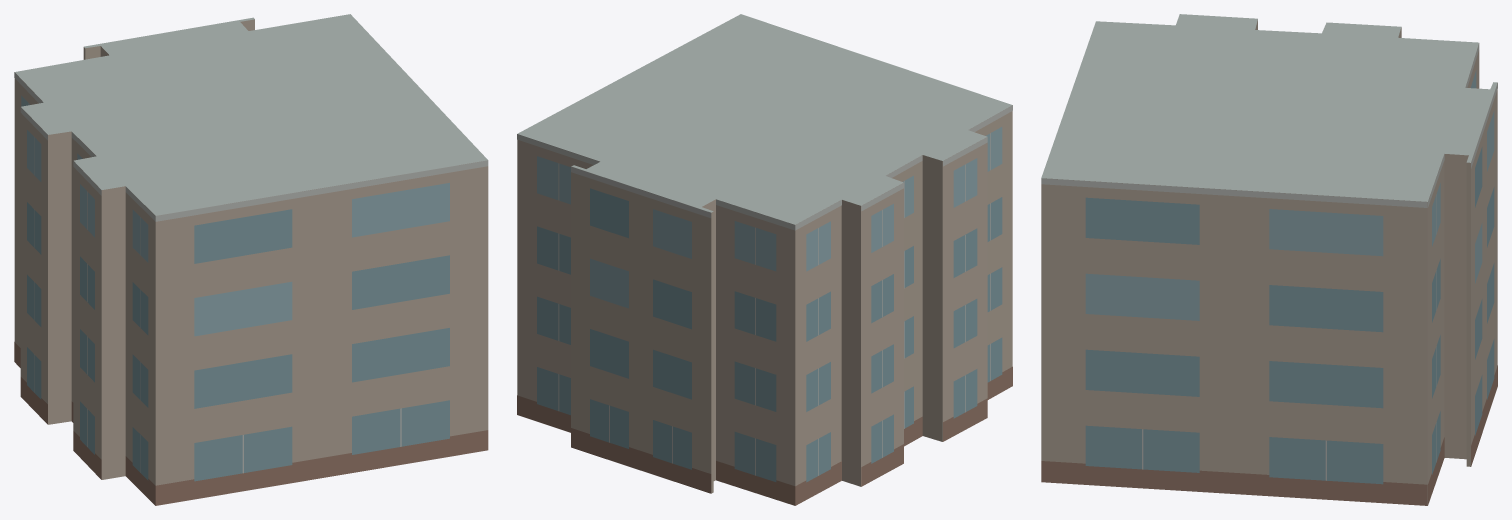
Rendered from survey-upis-32837842.glb.
3 views of the same model, side by side, from view 1: azimuth 30°, elevation 25°; view 2: azimuth 150°, elevation 25°; view 3: azimuth 270°, elevation 25° (orthographic). The views are drawn at different scales.
Visible parts, largest first — view 1: survey-upis-32837842.tmp; view 2: survey-upis-32837842.tmp; view 3: survey-upis-32837842.tmp.
Part boxes in pixels (x1,y1,x2,y2): survey-upis-32837842.tmp: [14, 14, 488, 505]; survey-upis-32837842.tmp: [517, 14, 1012, 505]; survey-upis-32837842.tmp: [1041, 14, 1497, 505].
Bounding box in the file's own units: 15.91 × 12 × 16.34.
